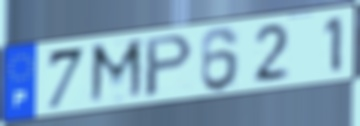1: (322, 15, 346, 74)
2: (251, 22, 292, 87)
6: (199, 25, 242, 94)
7: (43, 46, 89, 111)
M: (87, 36, 147, 108)
P: (142, 32, 196, 101)
